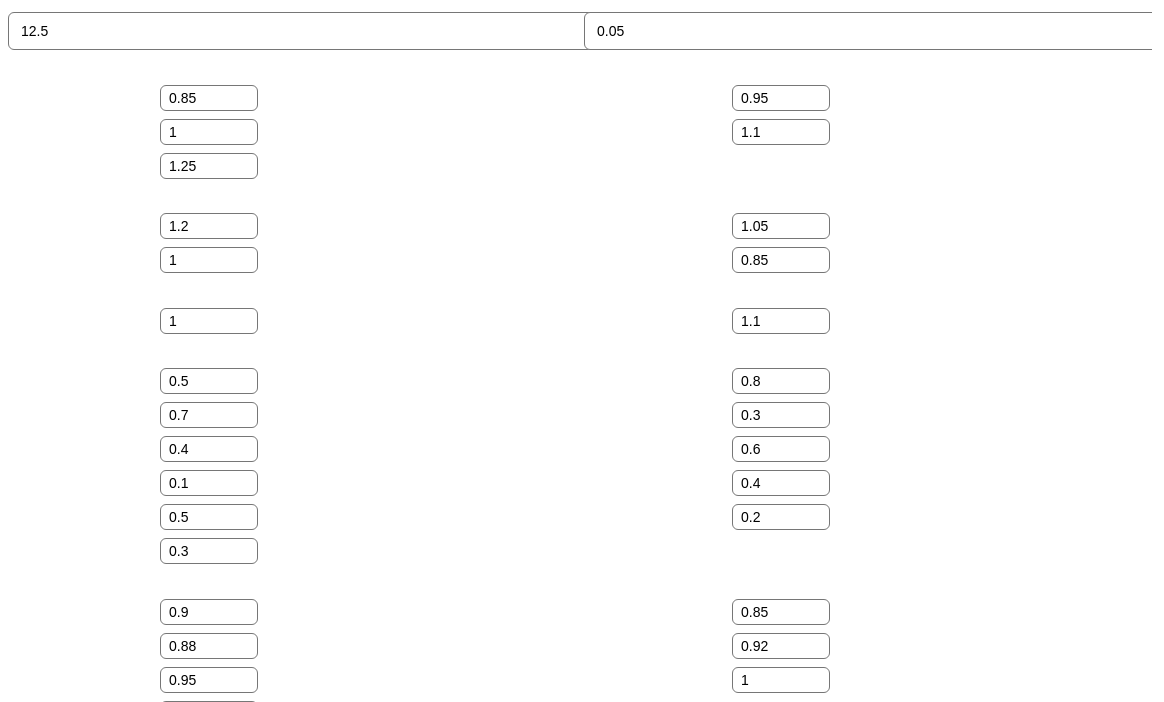
FactorEditor › Interaktion › erlaubt Änderung des Basispreises
Replace the text in the 1st number field showing "12.5" with "15.0" at (301, 31), box [8,12,594,50]
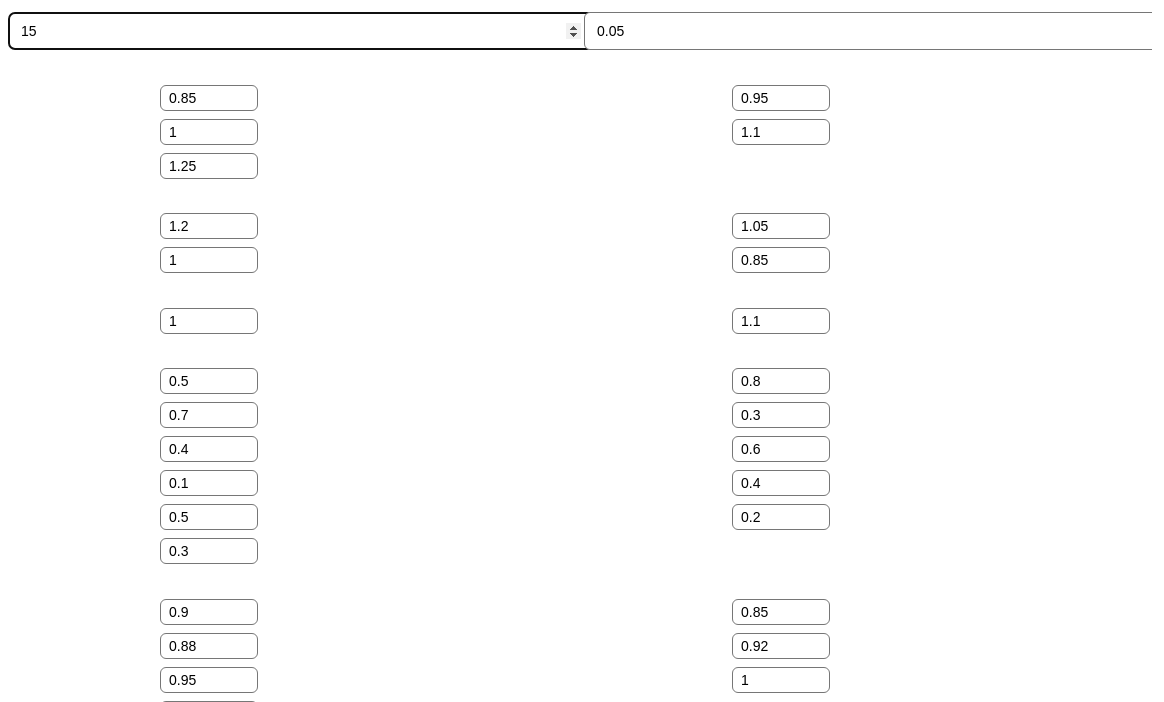
Expected: the 1st number field showing "12.5" holds "15", [8,12,594,50]
